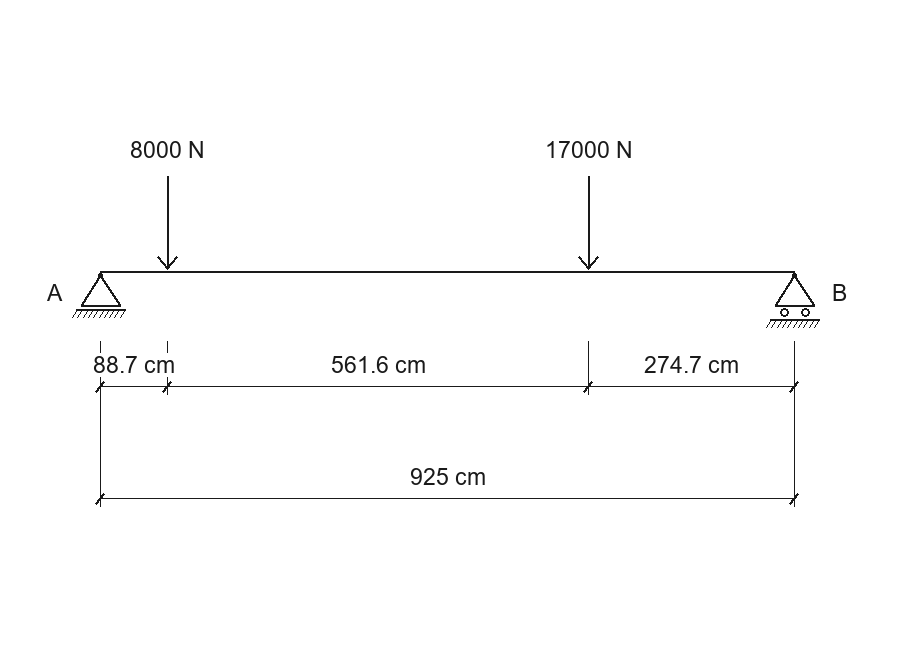pin_support: (72, 273, 126, 318)
point_load: (157, 176, 178, 270), (578, 176, 599, 270)
roller_support: (766, 273, 820, 328)
